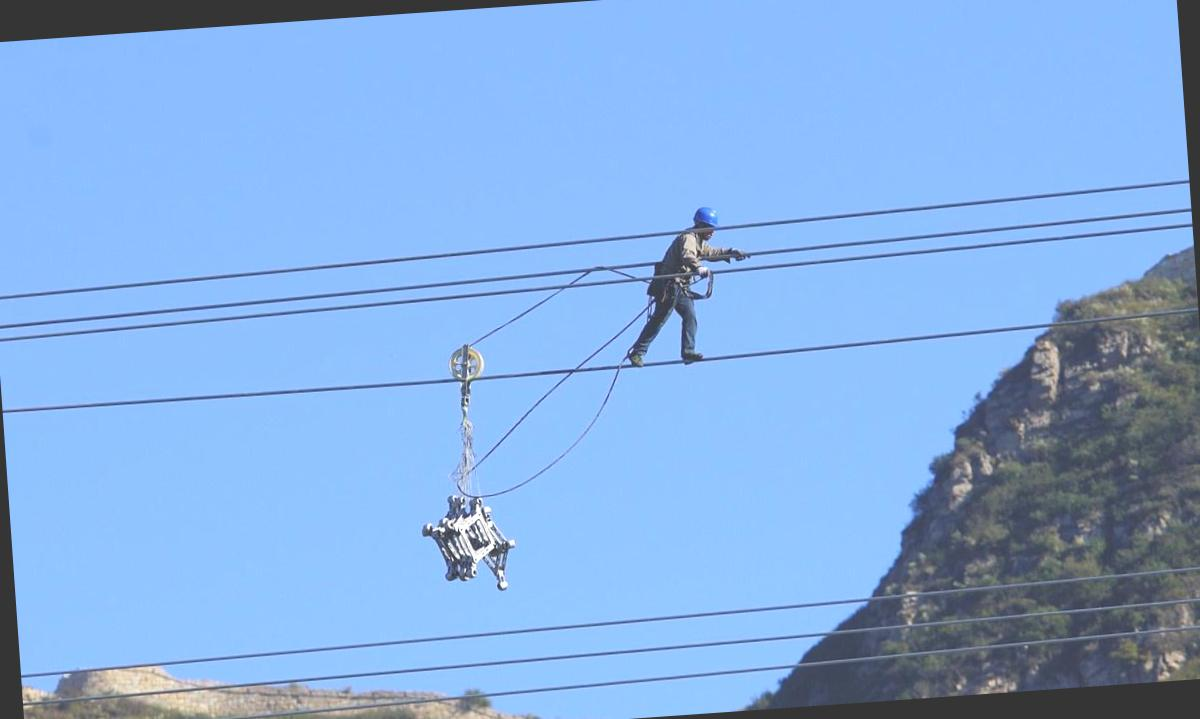helmet: (688, 203, 725, 239)
person: (618, 199, 744, 374)
